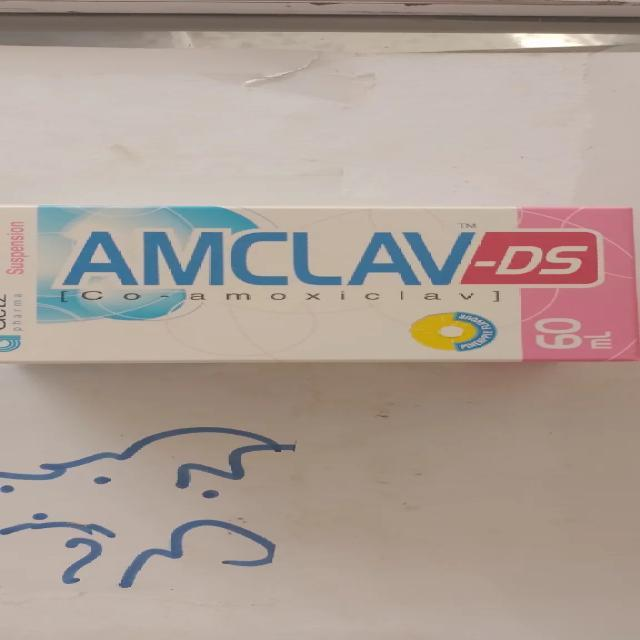drug-name: (57, 230, 585, 286)
